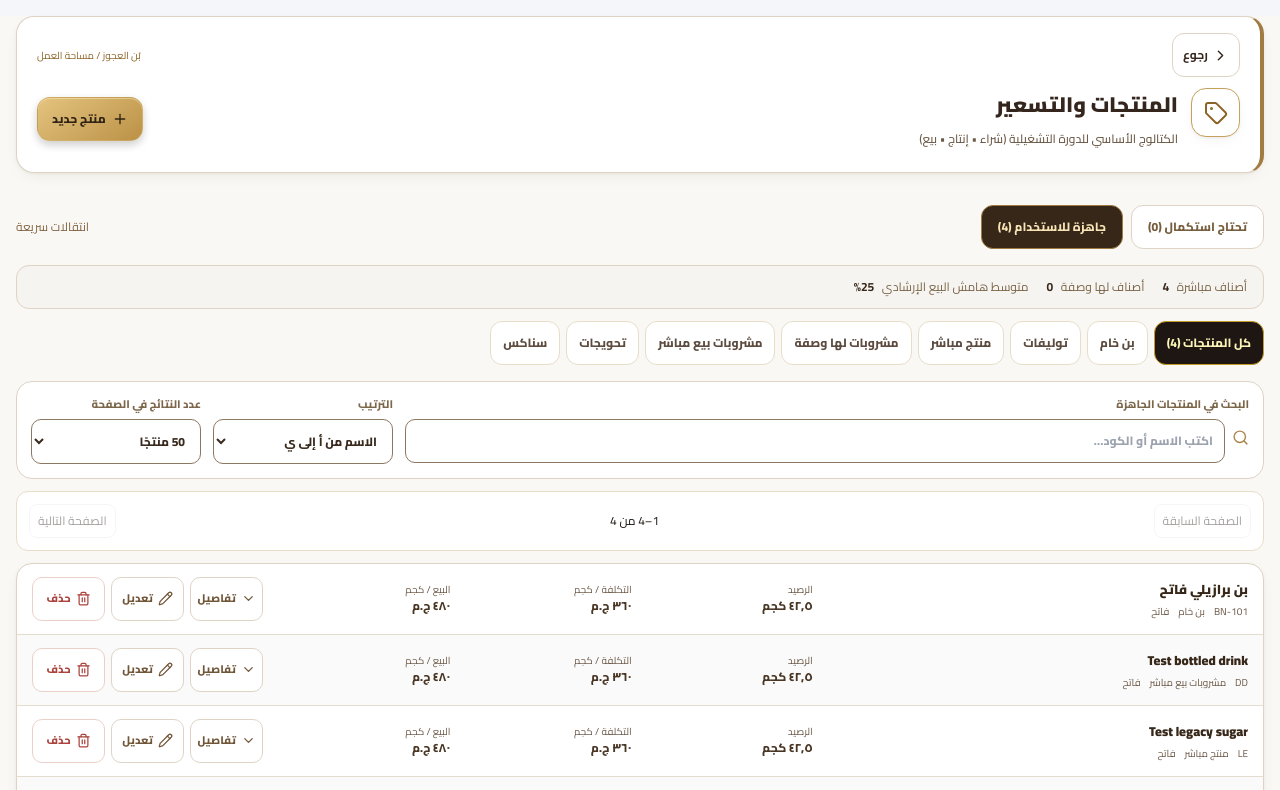
Test case: filters all seven approved categories and keeps legacy ingredients under direct products
Click the button "مشروبات بيع مباشر" at (710,343), box [645,321,775,365]
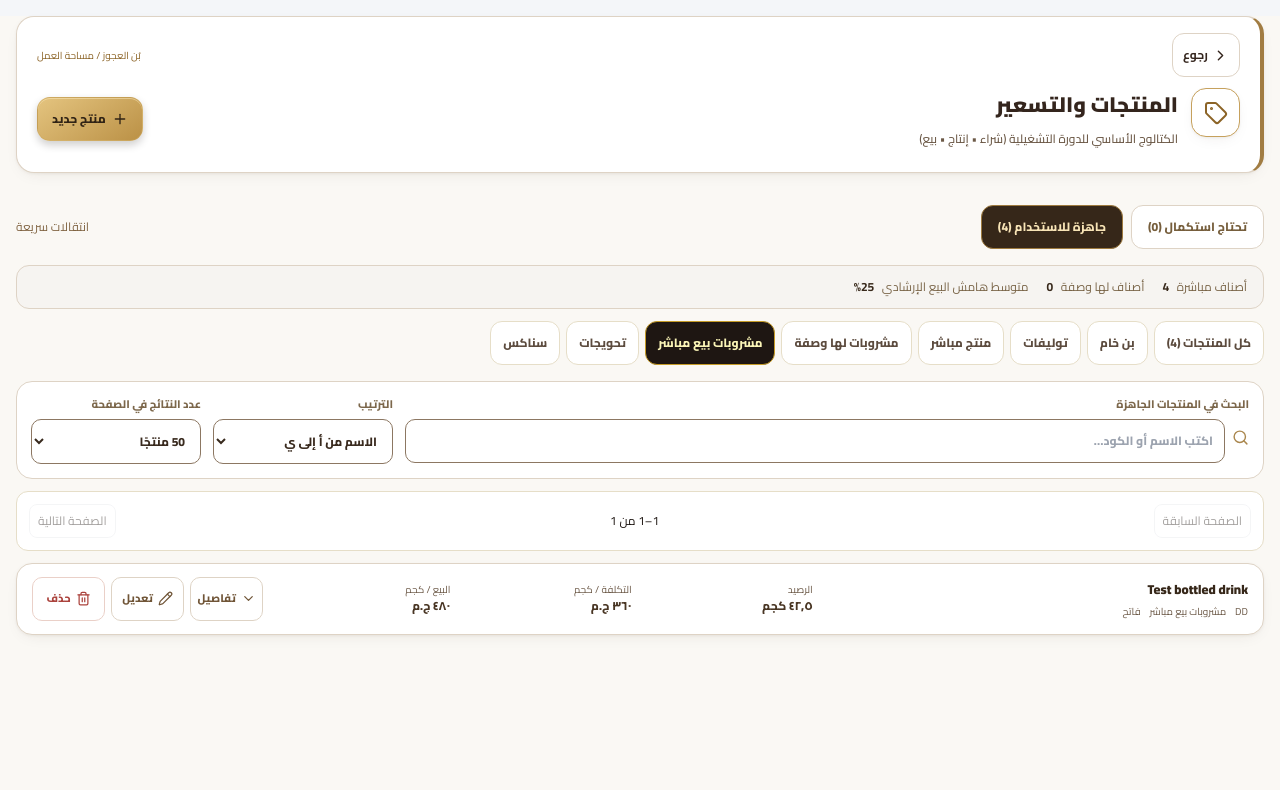
Check: the heading "Test bottled drink" is shown, box [1148,578,1248,602]
Click the button "سناكس" at (525,343), box [490,321,560,365]
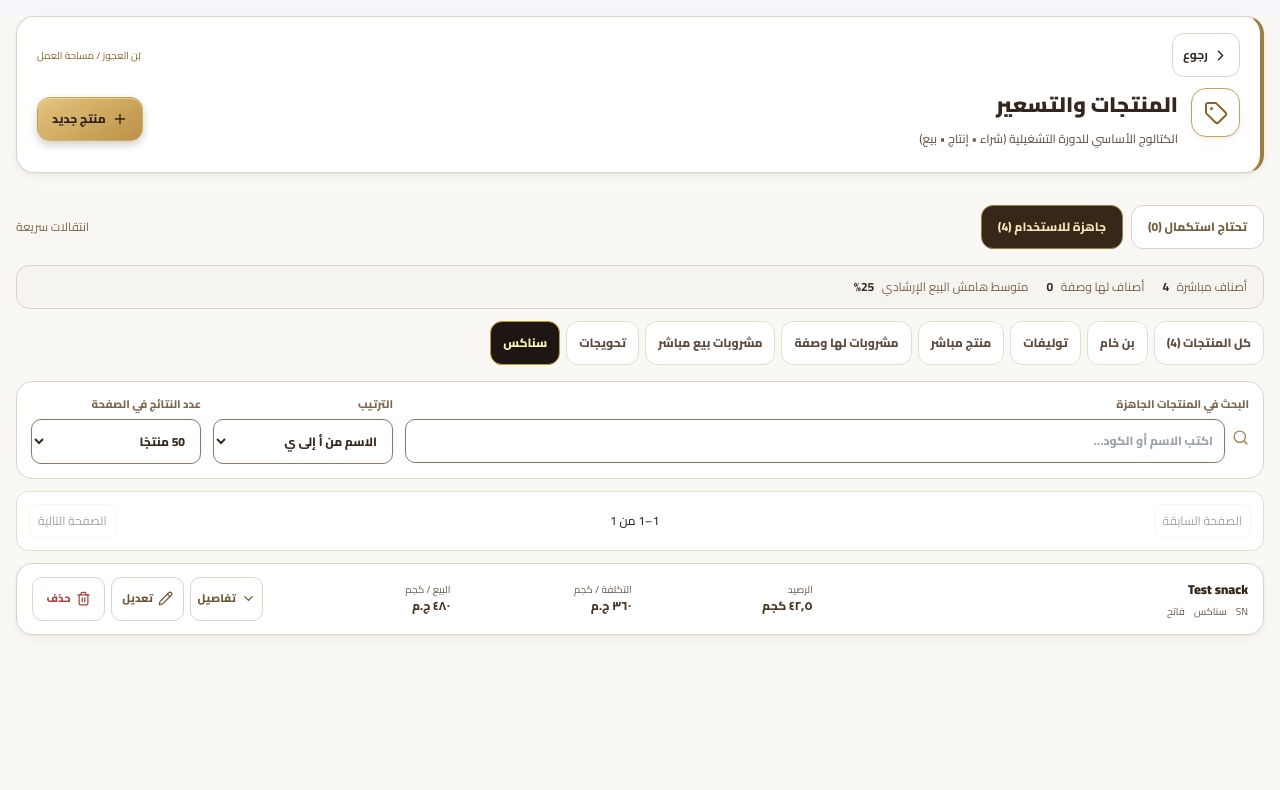
Check: the heading "Test snack" is shown, box [1188,578,1248,602]
Click the button "منتج مباشر" at (961,343), box [918,321,1004,365]
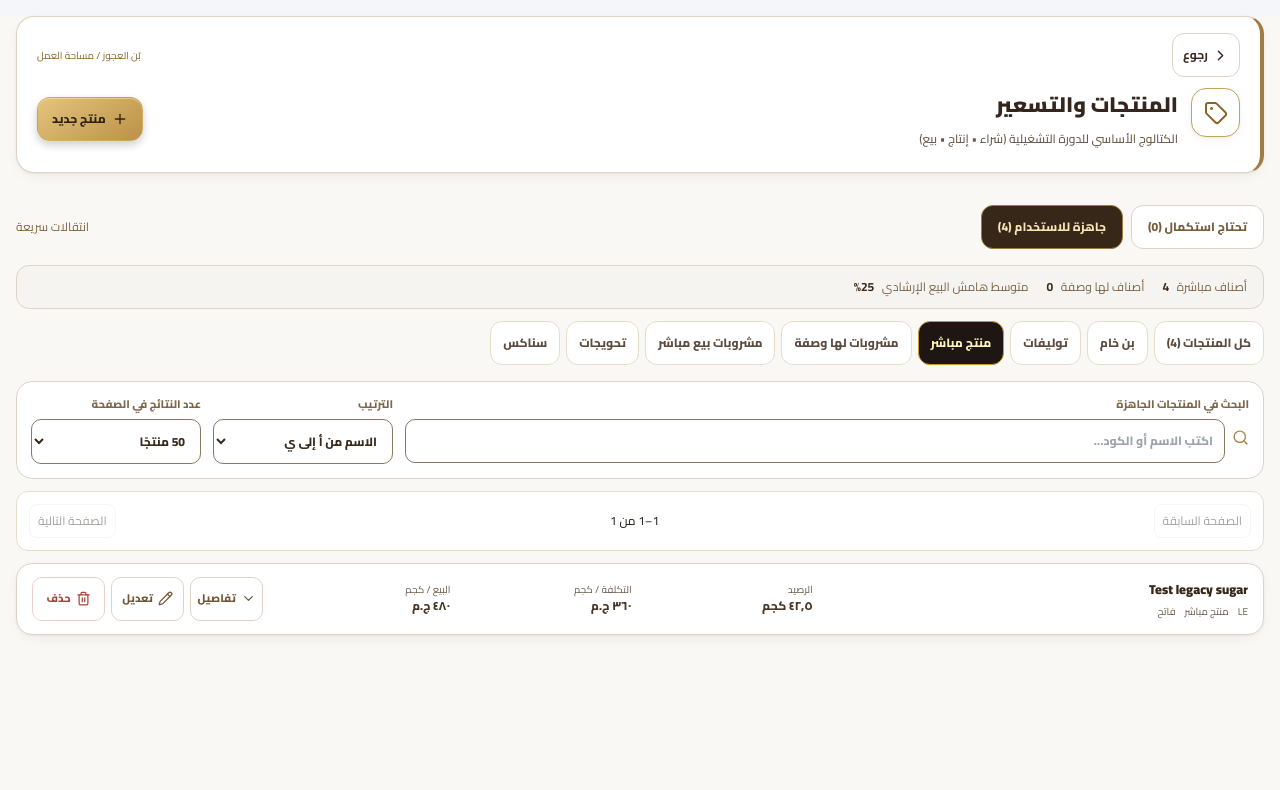
Check: the heading "Test legacy sugar" is shown, box [1149,578,1248,602]
